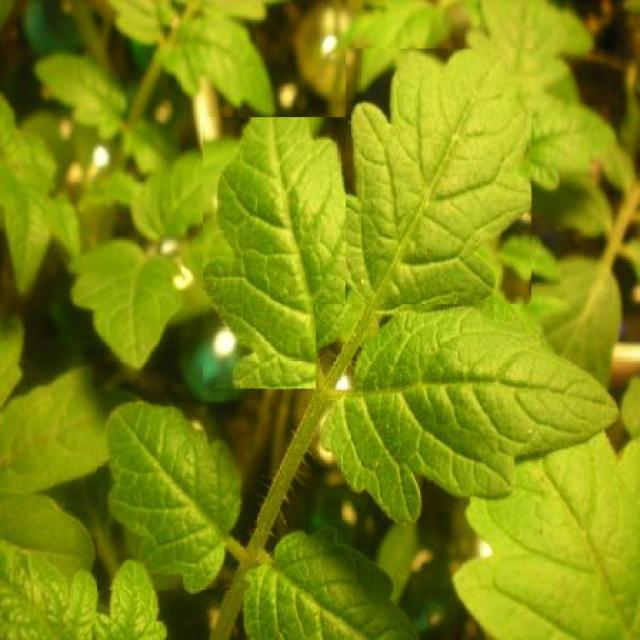Healthy: (316, 304, 621, 520), (346, 48, 531, 326), (203, 117, 360, 389), (97, 402, 257, 591)
